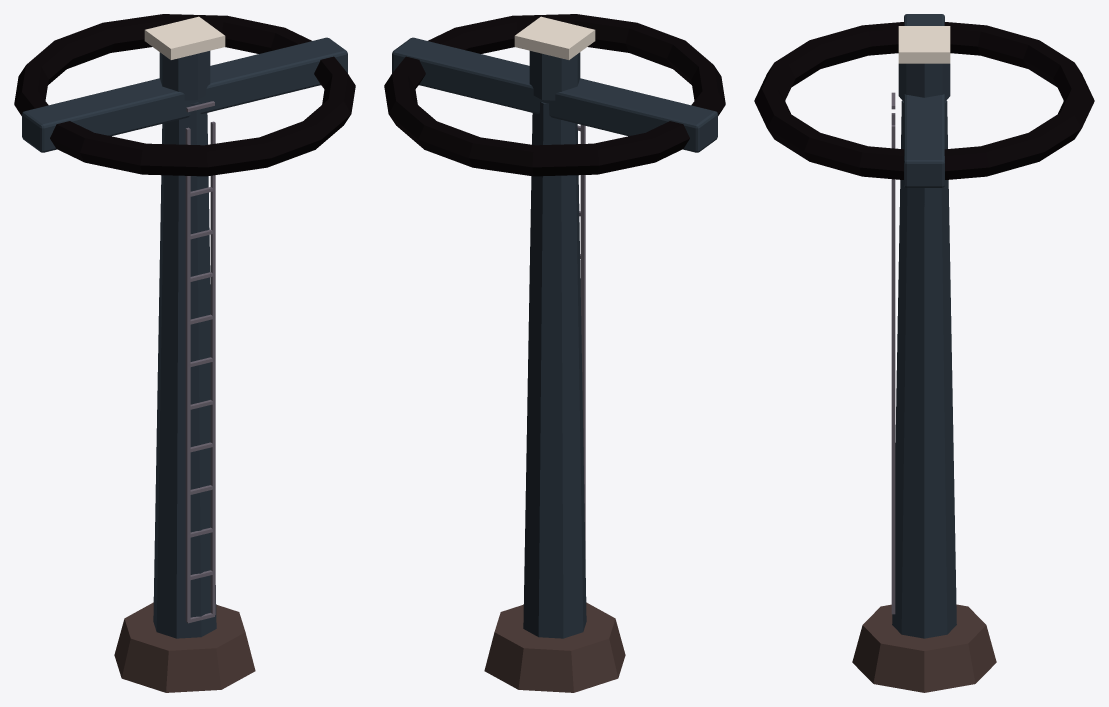
File: rs_lift_tower_end.glb
The picture shows the model from 3 angles, left to right: view 1: azimuth 30°, elevation 25°; view 2: azimuth 150°, elevation 25°; view 3: azimuth 270°, elevation 25°; orthographic projection.
Visible parts, largest first — view 1: tower; view 2: tower; view 3: tower.
Part boxes in pixels (left/top/right/bottom): tower: left=14, top=14, right=355, bottom=692; tower: left=384, top=14, right=725, bottom=692; tower: left=754, top=14, right=1094, bottom=692.
Bounding box in the file's own units: 3.4 × 6.66 × 3.3.
